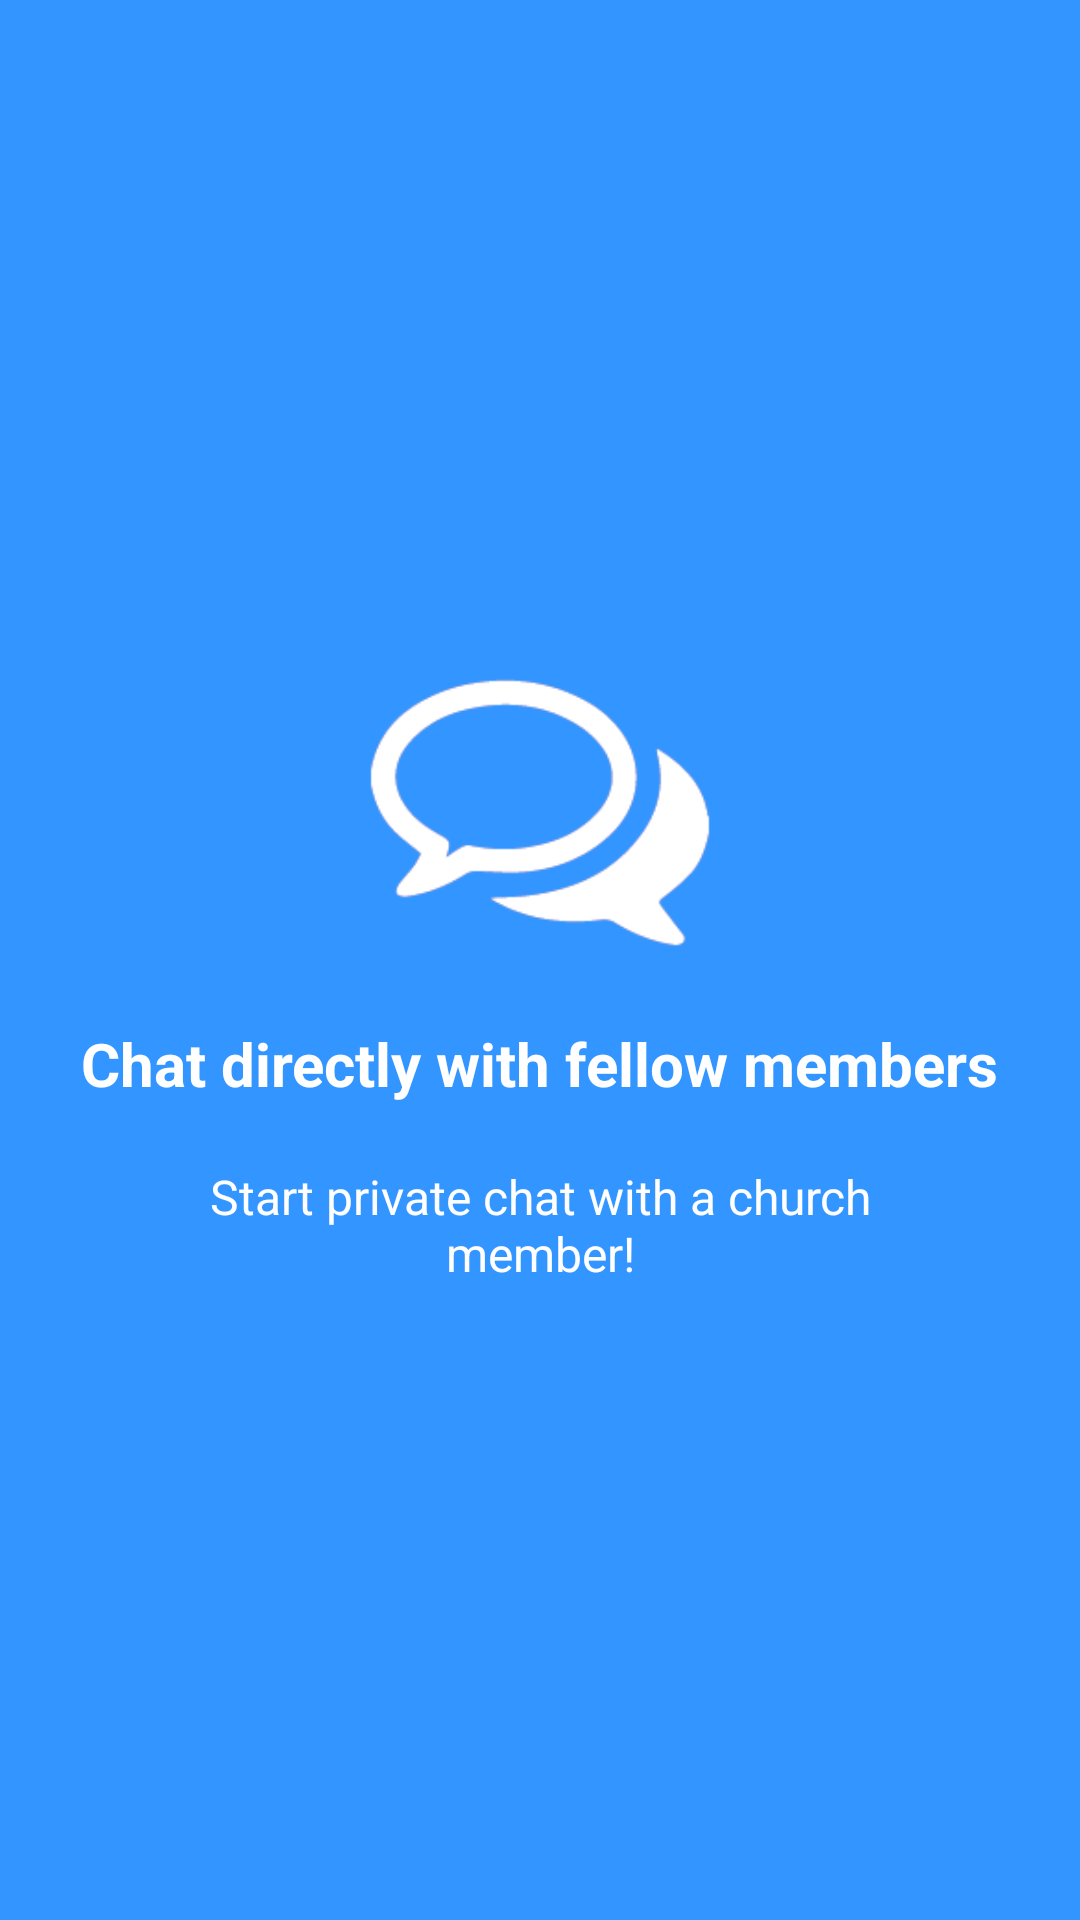

Named icons in this screenshot (1080w x 1920h) and their bounding boxes, BBox(x1, y1, x2, y2):
forum: BBox(370, 679, 710, 946)
